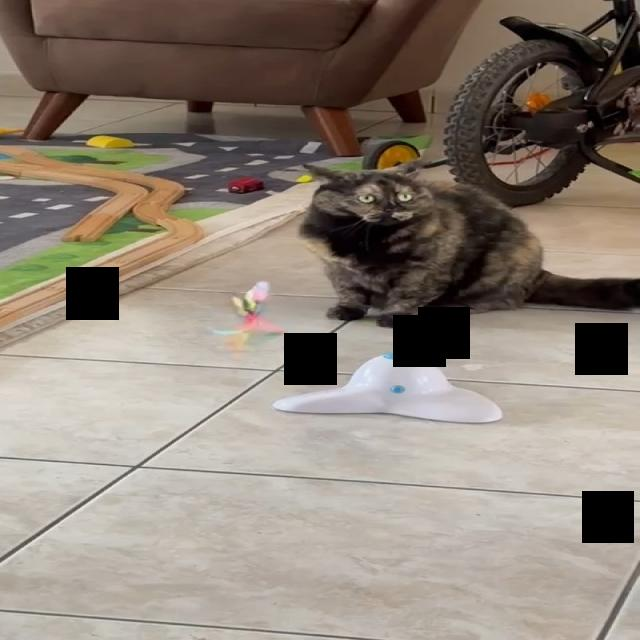authorized: (296, 160, 639, 328)
